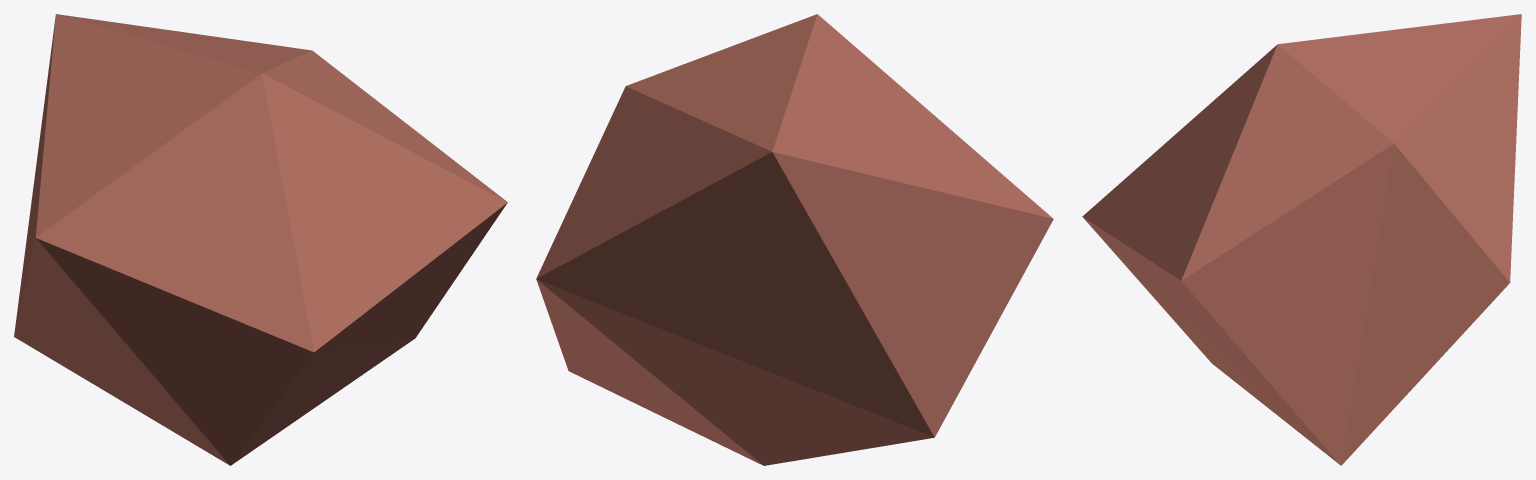
Rendered from Gas_Giant_05_Ring_02_Aseroid.fbx.
3 renders of one model, left to right at view 1: azimuth 30°, elevation 25°; view 2: azimuth 150°, elevation 25°; view 3: azimuth 270°, elevation 25°, orthographic. The views are drawn at different scales.
Parts seen in each view (by area): view 1: Gas_Giant_05_Ring_02_Aseroid; view 2: Gas_Giant_05_Ring_02_Aseroid; view 3: Gas_Giant_05_Ring_02_Aseroid.
Boxes of the visible parts, x1,y1,x2,y2 form: Gas_Giant_05_Ring_02_Aseroid: (14,14,507,465); Gas_Giant_05_Ring_02_Aseroid: (536,14,1053,465); Gas_Giant_05_Ring_02_Aseroid: (1082,14,1521,465).
Size of the model in its own units: 1015 by 826 by 939.
